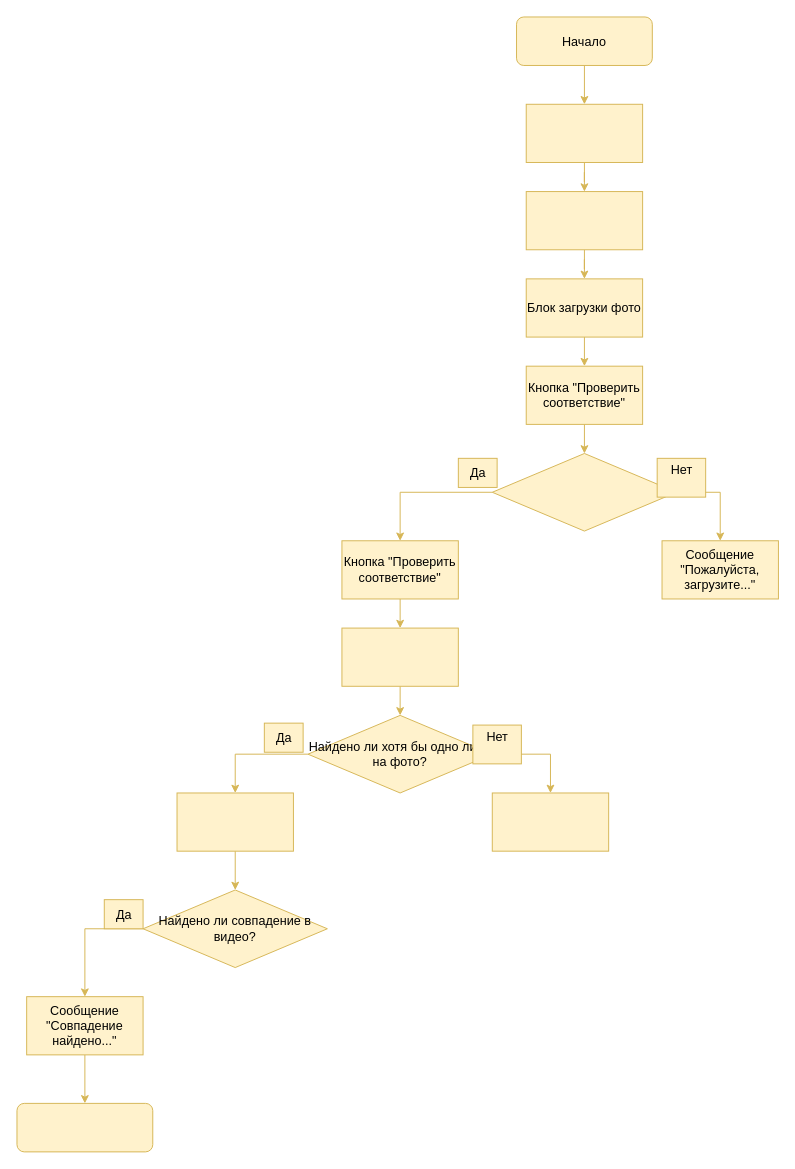
The diagram is 795 pixels wide and 1169 high, and some of its shapes have lost their labels. The shapes that lost their labels are listed below. From the top down, each one's centre as x and y in pixels, then its label:
point 584,132: Инициализация веб-интерфейса
point 584,220: Блок загрузки видео
point 584,492: Загружены ли файлы?
point 399,656: Преобразование фото-> face_encodings
point 234,821: Чтение видео по кадрам и сравнение с эталоном
point 550,821: Сообщение "На фото не обнаружено лиц"
point 84,1127: Конец
